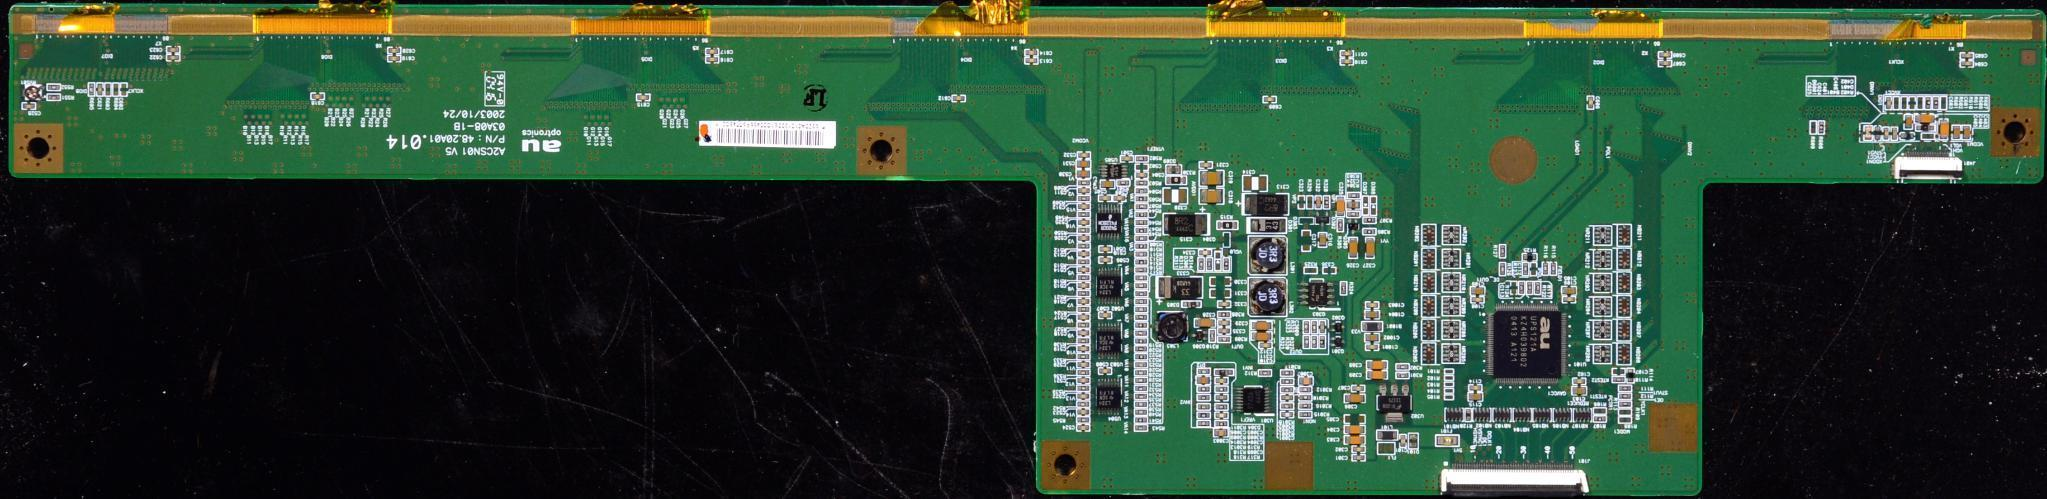Capacitor: (1903, 110, 1975, 140), (1173, 246, 1233, 272), (1163, 211, 1211, 240), (1242, 191, 1291, 216), (1162, 184, 1193, 207), (1343, 413, 1366, 443), (1198, 184, 1226, 204), (1199, 169, 1224, 186), (1367, 359, 1389, 378), (1571, 373, 1589, 396), (1468, 381, 1485, 404), (658, 96, 687, 109), (1244, 175, 1267, 191), (584, 114, 613, 126), (309, 90, 329, 106), (1518, 280, 1541, 293), (1342, 392, 1366, 404), (1363, 307, 1382, 320), (1209, 275, 1232, 286), (635, 90, 652, 105), (1366, 236, 1376, 259), (1211, 288, 1232, 298), (1348, 235, 1358, 258), (1611, 365, 1634, 374), (1217, 318, 1230, 333), (1303, 229, 1312, 249), (1251, 321, 1272, 330), (1351, 445, 1364, 460), (1252, 331, 1272, 339), (950, 93, 967, 103), (385, 55, 403, 64), (1317, 229, 1327, 247), (705, 56, 722, 65), (1961, 60, 1978, 69), (20, 101, 37, 110), (1076, 158, 1093, 167), (1076, 168, 1093, 178), (1296, 376, 1313, 385), (164, 44, 181, 53), (386, 45, 403, 53), (1925, 97, 1939, 108), (1022, 58, 1041, 65), (1076, 186, 1091, 194), (1076, 216, 1091, 225), (704, 46, 719, 55), (164, 53, 181, 62), (120, 79, 128, 96), (1883, 95, 1892, 110), (1322, 266, 1337, 276), (1077, 280, 1091, 289), (1364, 299, 1379, 308), (1199, 248, 1214, 256), (1218, 297, 1231, 306), (1365, 342, 1379, 351), (1279, 409, 1292, 418), (1022, 49, 1041, 56), (1132, 162, 1149, 169), (1339, 195, 1345, 215), (1076, 152, 1091, 158), (1078, 233, 1091, 241), (1214, 427, 1227, 435), (1077, 248, 1091, 255), (1510, 280, 1517, 294), (1076, 360, 1090, 367), (1351, 384, 1365, 391), (97, 78, 102, 96), (1299, 194, 1305, 208), (1076, 264, 1089, 271), (1076, 407, 1089, 414), (1136, 171, 1148, 178), (1079, 201, 1091, 208), (1531, 264, 1538, 275), (1080, 296, 1090, 303), (1961, 52, 1974, 58), (1316, 194, 1321, 207), (1259, 342, 1270, 348), (1077, 345, 1089, 350), (1077, 377, 1089, 383), (1077, 313, 1088, 319), (1077, 331, 1088, 336), (1077, 394, 1089, 399)
Resistor: (1134, 335, 1147, 422), (1304, 320, 1328, 348), (276, 110, 311, 125), (1618, 385, 1633, 420), (1892, 95, 1924, 110), (22, 80, 45, 99), (1135, 178, 1148, 209), (1444, 366, 1456, 400), (361, 95, 392, 107), (1135, 240, 1148, 267), (1811, 116, 1826, 135), (1593, 402, 1606, 422), (1136, 216, 1148, 237), (1544, 261, 1559, 275), (1217, 219, 1239, 228), (1521, 251, 1539, 260), (1613, 375, 1634, 383), (1165, 164, 1182, 174), (1498, 260, 1507, 275), (1302, 264, 1317, 273), (1216, 334, 1231, 343), (1397, 369, 1410, 379), (1397, 360, 1411, 370), (88, 80, 95, 95), (1338, 280, 1347, 293), (1078, 305, 1091, 313), (1208, 329, 1217, 342), (46, 82, 60, 90), (47, 93, 62, 100), (1336, 217, 1343, 231), (104, 78, 111, 95), (97, 79, 103, 96), (112, 80, 119, 95), (1324, 193, 1330, 209), (1075, 243, 1090, 249), (1218, 309, 1231, 318), (1281, 377, 1294, 385), (1298, 386, 1311, 393), (1298, 409, 1311, 417), (1361, 228, 1376, 235), (1259, 371, 1273, 377), (1076, 384, 1090, 391), (1279, 401, 1294, 408), (1498, 243, 1505, 255), (1523, 259, 1529, 276), (1077, 290, 1090, 296), (1280, 385, 1293, 392), (1076, 423, 1089, 430), (1364, 217, 1376, 224), (1076, 180, 1089, 186), (1077, 194, 1090, 200), (1077, 227, 1090, 233), (1076, 259, 1089, 264), (1077, 353, 1088, 359), (1300, 394, 1313, 400), (1077, 402, 1090, 407), (1306, 194, 1311, 207), (1078, 369, 1088, 375), (1077, 322, 1088, 328), (1077, 338, 1088, 343), (1078, 417, 1089, 422), (1942, 96, 1947, 109), (1077, 211, 1090, 216), (1076, 275, 1089, 279)
